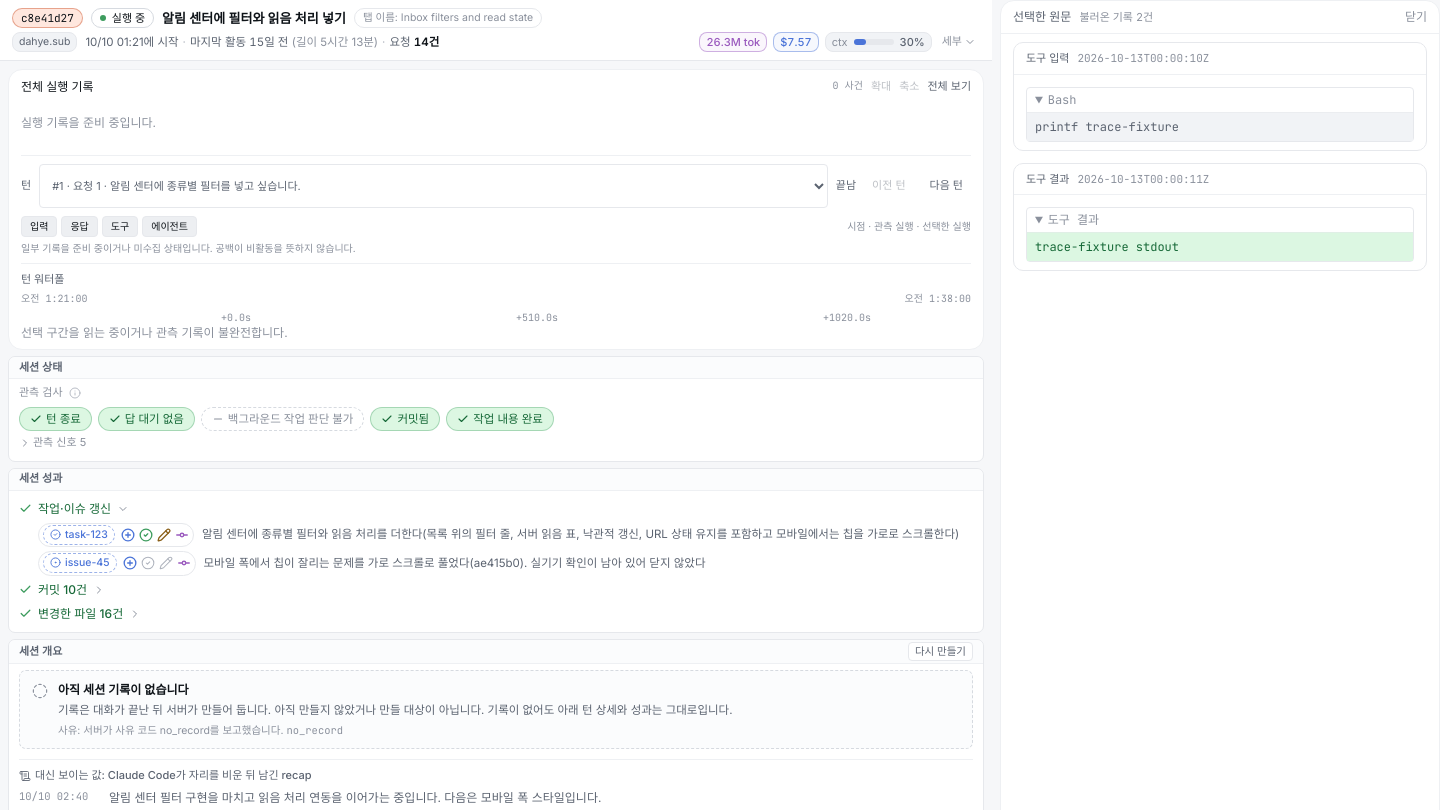
Test: retains explicit owner consent and regeneration controls without automatically granting consent
This screenshot has width=1440, height=810.
Click the button "다시 만들기" at (940, 652), box 908,642 -> 973,661
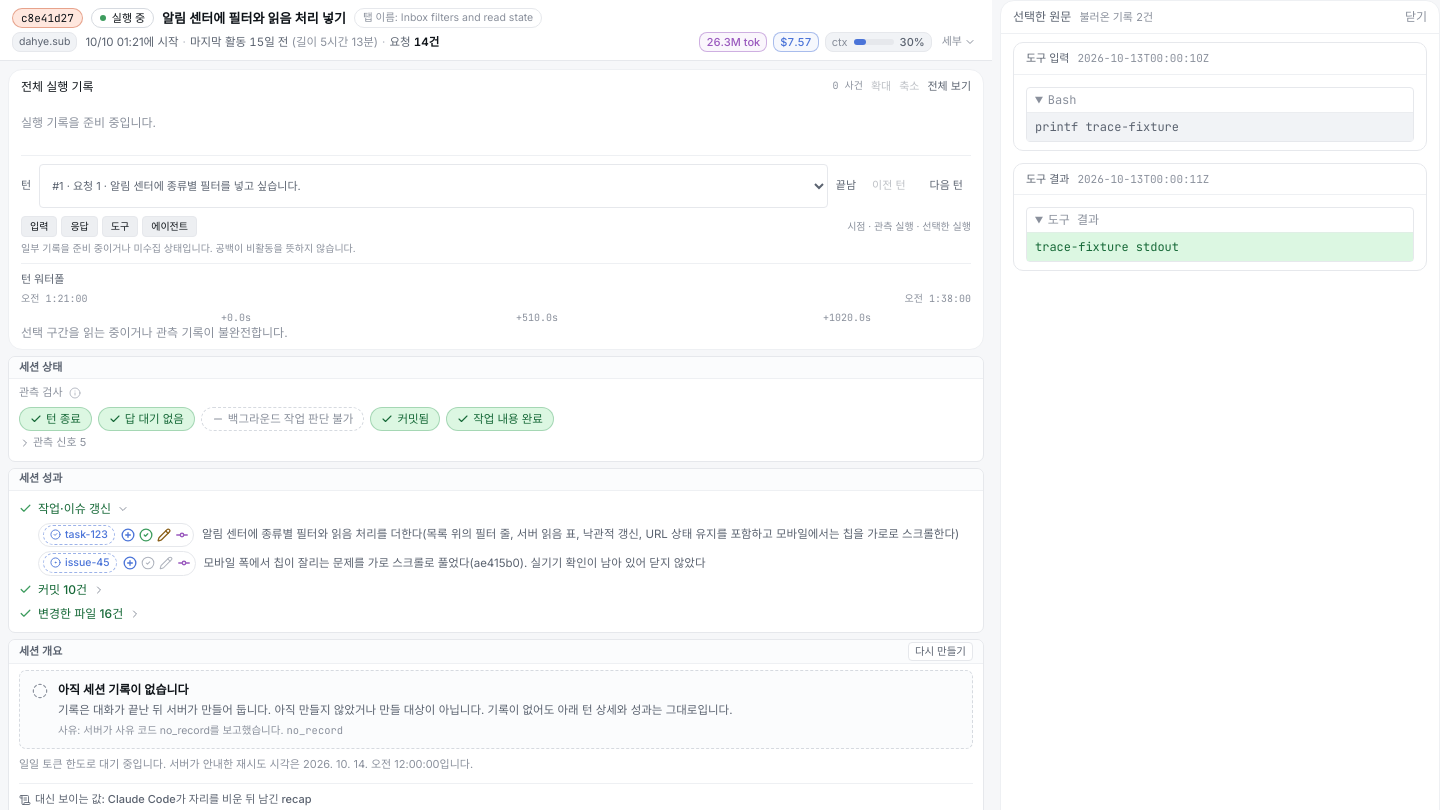
Expected: the heading "전체 실행 기록" is shown, 21,78 -> 94,95
Now the text "일일 토큰 한도로 대기 중입니다. 서버가 안내한 재시도 시각은 2026. 10. 14. 오전 12:00:00입니다." is shown, box 19,757 -> 473,771
